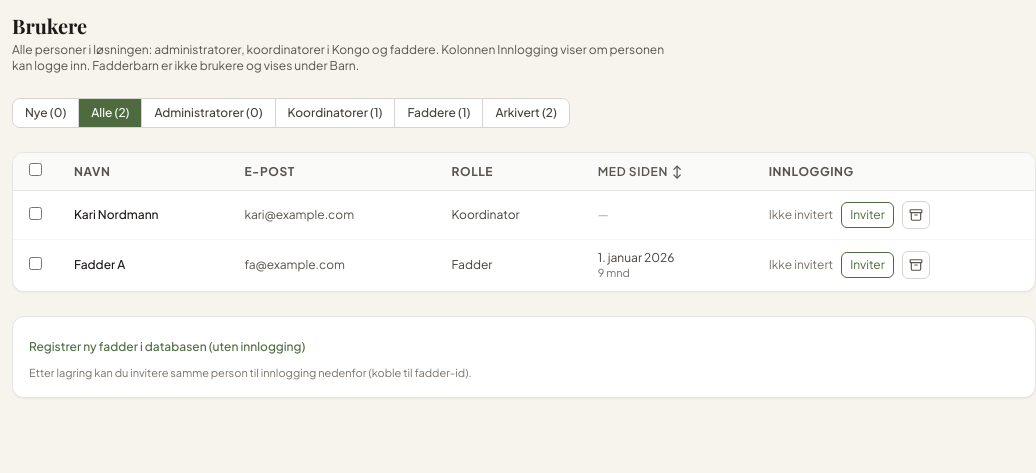
Scenario: brukerlisten: arkiv › arkiveringsknappen på en rad kaller deactivatePerson én gang
What coordinates should you click on to do the following:
click the button named "Arkiver Kari Nordmann"
I would click on:
 (916, 215)
Its box is 902,201 -> 930,229.
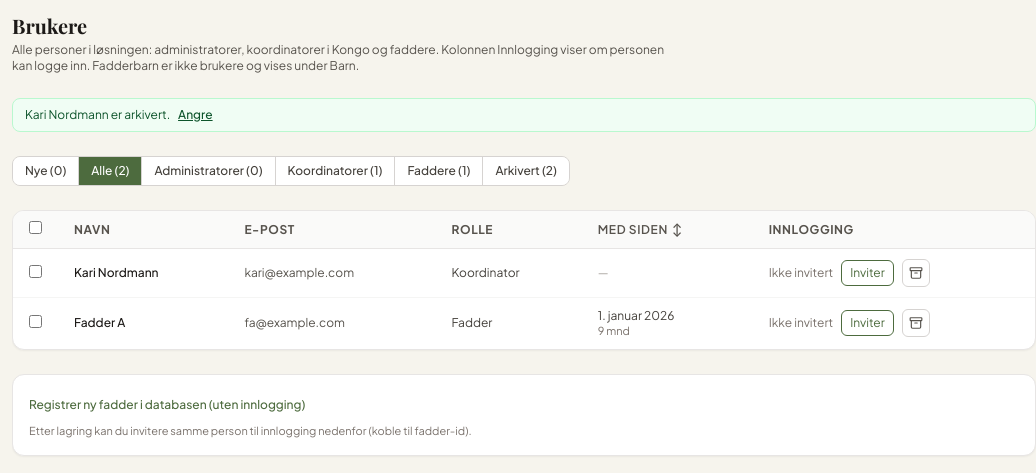
Result: the button "Angre" is shown at 178,107 -> 213,123
